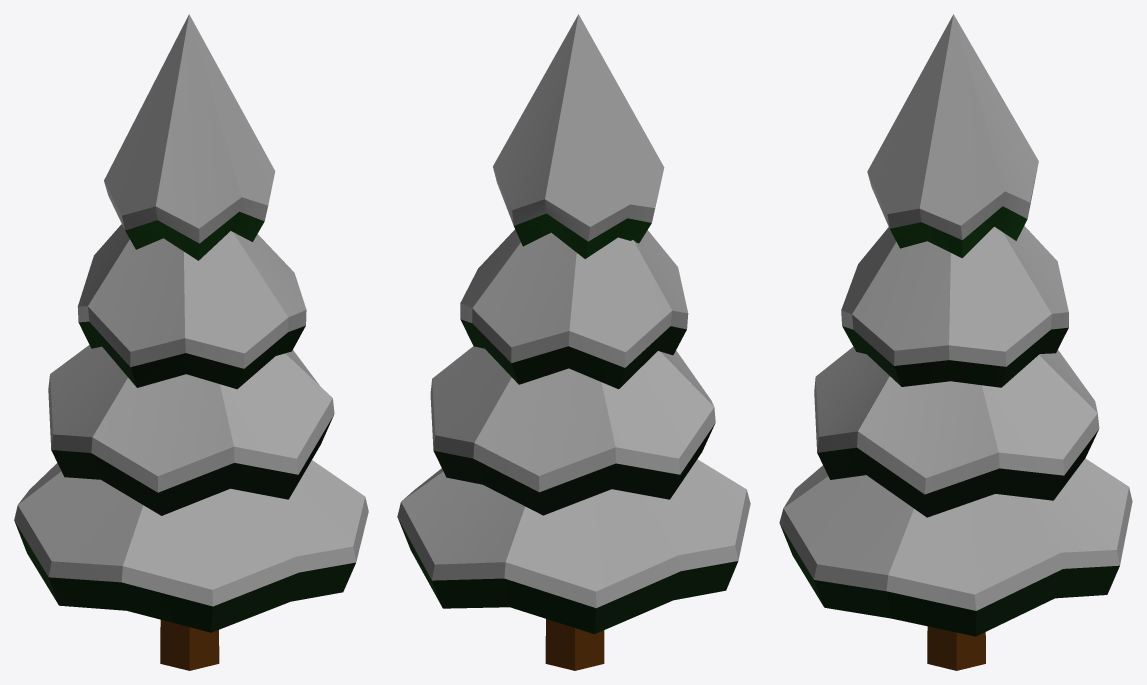
File: SM__Coniferous__Tree__Snow__Growth__2.fbx
The picture shows the model from 3 angles, left to right: view 1: azimuth 30°, elevation 25°; view 2: azimuth 150°, elevation 25°; view 3: azimuth 270°, elevation 25°; orthographic projection.
Parts seen in each view (by area): view 1: groupdelete6; view 2: groupdelete6; view 3: groupdelete6.
Part boxes in pixels (bbox=[...]): groupdelete6: bbox=[14, 14, 368, 670]; groupdelete6: bbox=[397, 14, 750, 670]; groupdelete6: bbox=[779, 14, 1132, 670].
Size of the model in its own units: 3.52 by 7.05 by 3.51.
